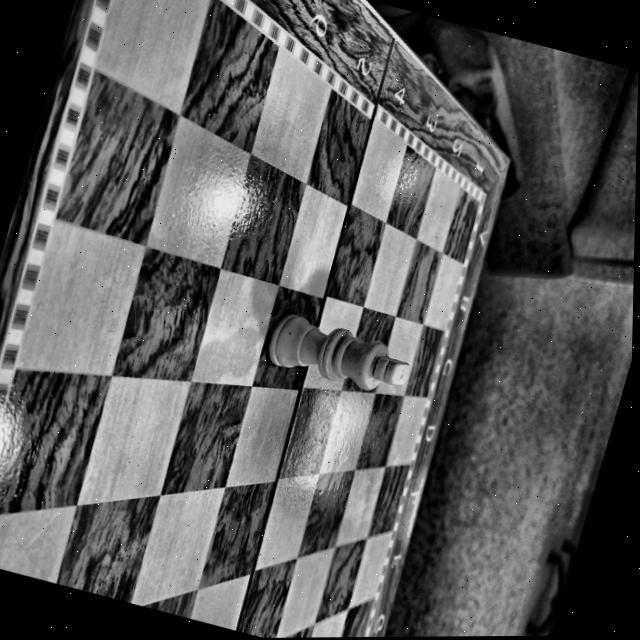white-king: (268, 312, 409, 389)
